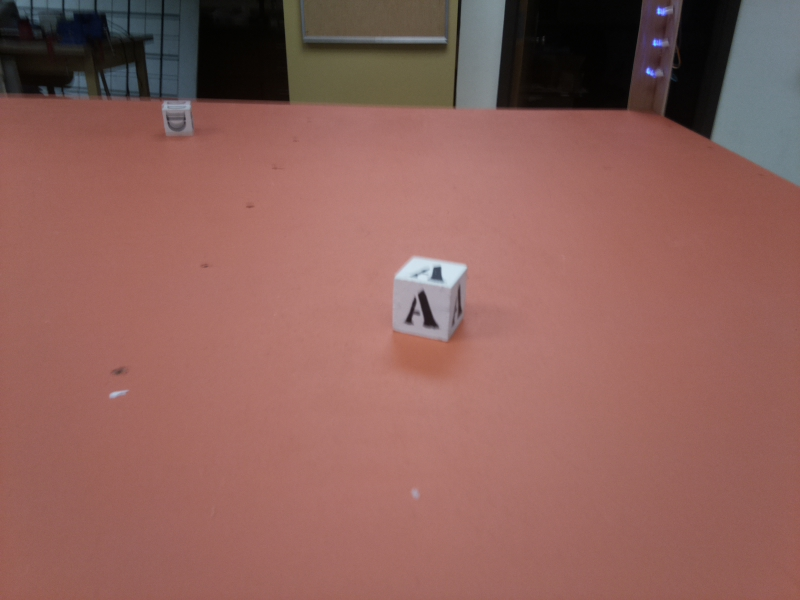blockA: (391, 255, 469, 348)
blockD: (163, 101, 193, 140)
corner: (624, 1, 681, 119)
